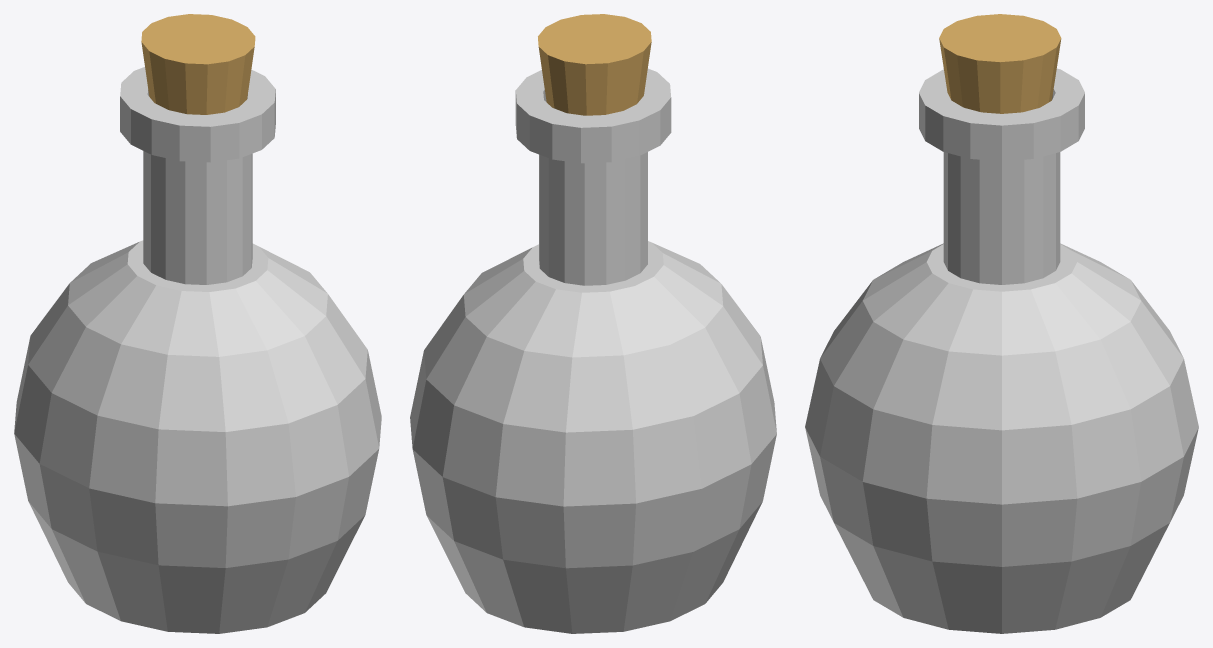
File: one text tube.fbx
The picture shows the model from 3 angles, left to right: view 1: azimuth 30°, elevation 25°; view 2: azimuth 150°, elevation 25°; view 3: azimuth 270°, elevation 25°; orthographic projection.
Parts seen in each view (by area): view 1: Sphere.017, Circle.056; view 2: Sphere.017, Circle.056; view 3: Sphere.017, Circle.056.
Boxes of the visible parts, x1,y1,x2,y2 form: Sphere.017: (14, 67, 381, 633); Circle.056: (141, 14, 255, 114); Sphere.017: (410, 68, 776, 633); Circle.056: (538, 14, 651, 115); Sphere.017: (805, 68, 1198, 633); Circle.056: (939, 14, 1061, 113).
Size of the model in its own units: 36.28 by 58.9 by 38.89.
